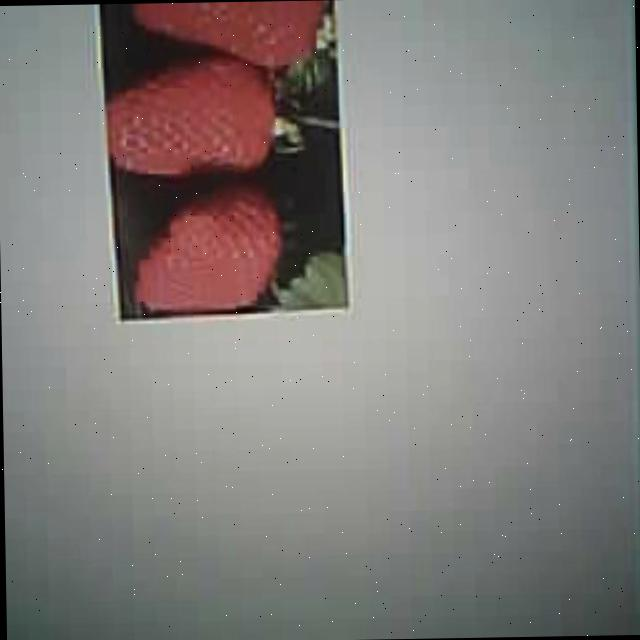strawberry: (108, 60, 276, 179), (134, 189, 286, 312)
